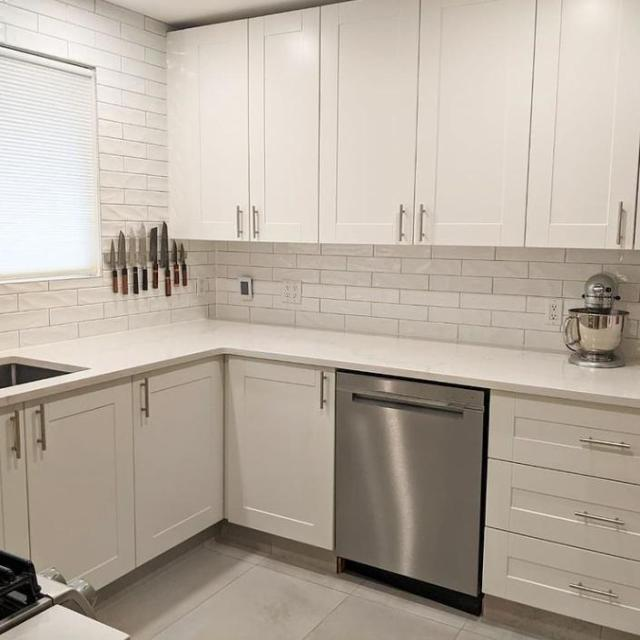dishwasher: (333, 366, 484, 606)
